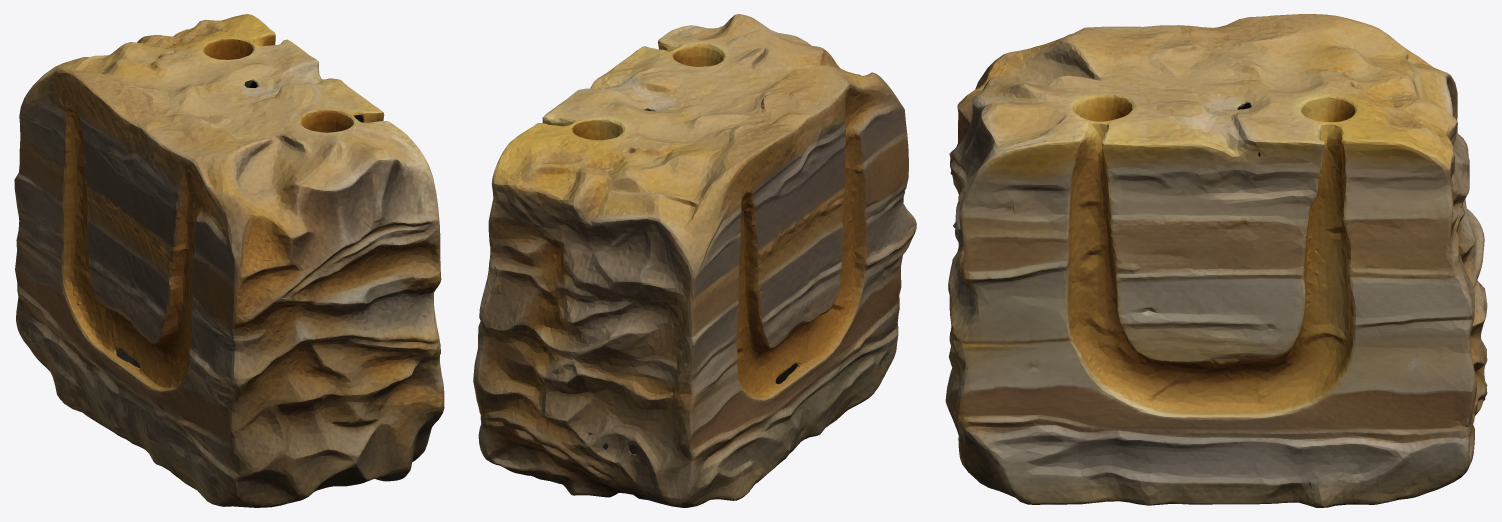
3 views of the same model, side by side, from view 1: azimuth 30°, elevation 25°; view 2: azimuth 150°, elevation 25°; view 3: azimuth 270°, elevation 25° (orthographic). The views are drawn at different scales.
Parts seen in each view (by area): view 1: world; view 2: world; view 3: world.
Boxes of the visible parts, x1,y1,x2,y2 form: world: (14,14,444,507); world: (473,14,916,507); world: (945,14,1487,507).
Size of the model in its own units: 0.1288 by 0.188 by 0.24.
1 material, 1 textured.
